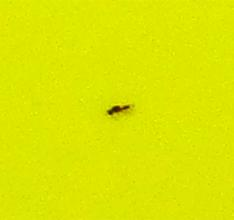Hymenoptera: (100, 100, 134, 120)
